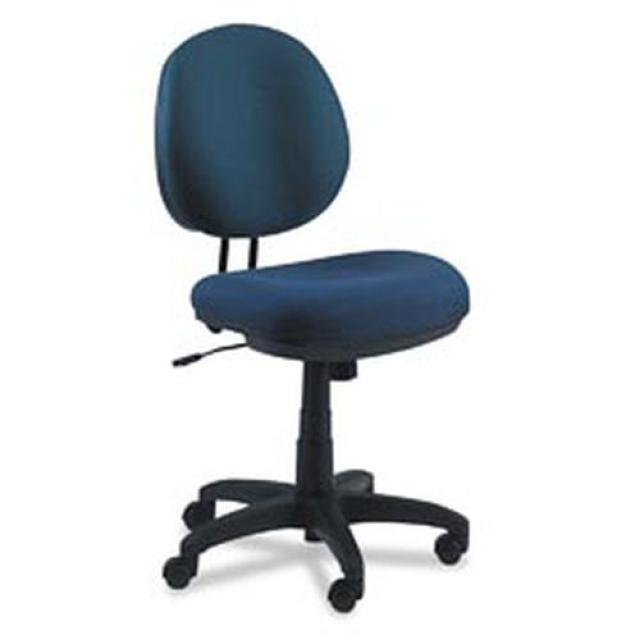swivelchair: (152, 23, 472, 617)
